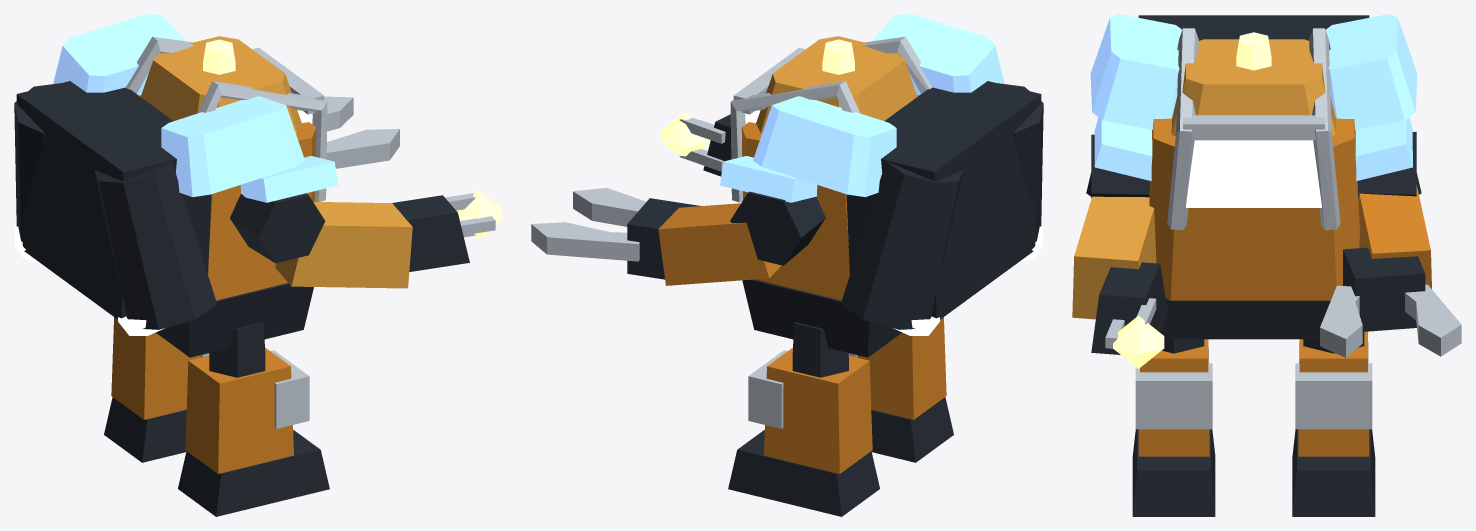
Rendered from pioneer.glb.
The picture shows the model from 3 angles, left to right: view 1: azimuth 30°, elevation 25°; view 2: azimuth 150°, elevation 25°; view 3: azimuth 270°, elevation 25°; orthographic projection. The views are drawn at different scales.
Parts seen in each view (by area): view 1: Surf_dark, Surf_TEAM, Surf_suit_hi, RightLeg_Surf_suit, RightLeg_Surf_dark, Surf_light, LeftLeg_Surf_suit, Surf_suit, LeftLeg_Surf_dark, Surf_weld, RightLeg_Surf_light, Surf_visor; view 2: Surf_dark, Surf_TEAM, Surf_suit, Surf_light, LeftLeg_Surf_suit, LeftLeg_Surf_dark, Surf_suit_hi, RightLeg_Surf_suit, RightLeg_Surf_dark, Surf_weld, LeftLeg_Surf_light, Surf_visor; view 3: Surf_suit, Surf_TEAM, Surf_dark, Surf_suit_hi, Surf_light, Surf_visor, RightLeg_Surf_dark, LeftLeg_Surf_dark, LeftLeg_Surf_light, RightLeg_Surf_light, LeftLeg_Surf_suit, RightLeg_Surf_suit (+1 smaller).
Part boxes in pixels (x1,y1,x2,y2): Surf_dark: [14, 81, 469, 357]; Surf_TEAM: [53, 14, 337, 202]; Surf_suit_hi: [140, 36, 412, 288]; RightLeg_Surf_suit: [185, 347, 293, 473]; RightLeg_Surf_dark: [178, 322, 329, 516]; Surf_light: [126, 36, 495, 237]; LeftLeg_Surf_suit: [111, 317, 200, 419]; Surf_suit: [139, 95, 316, 300]; LeftLeg_Surf_dark: [104, 397, 186, 462]; Surf_weld: [203, 39, 502, 238]; RightLeg_Surf_light: [270, 350, 309, 428]; Surf_visor: [15, 110, 312, 335]; Surf_dark: [627, 81, 1043, 357]; Surf_TEAM: [720, 14, 1004, 202]; Surf_suit: [658, 95, 918, 300]; Surf_light: [531, 36, 932, 261]; LeftLeg_Surf_suit: [764, 347, 872, 473]; LeftLeg_Surf_dark: [728, 322, 879, 516]; Surf_suit_hi: [756, 36, 917, 132]; RightLeg_Surf_suit: [857, 317, 946, 419]; RightLeg_Surf_dark: [871, 397, 953, 462]; Surf_weld: [662, 39, 854, 160]; LeftLeg_Surf_light: [748, 350, 787, 428]; Surf_visor: [745, 110, 1042, 335]; Surf_suit: [1149, 118, 1431, 300]; Surf_TEAM: [1090, 14, 1417, 180]; Surf_dark: [1086, 15, 1425, 354]; Surf_suit_hi: [1072, 39, 1336, 319]; Surf_light: [1105, 28, 1461, 364]; Surf_visor: [1186, 140, 1321, 207]; RightLeg_Surf_dark: [1132, 339, 1215, 516]; LeftLeg_Surf_dark: [1292, 332, 1375, 516]; LeftLeg_Surf_light: [1295, 363, 1372, 429]; RightLeg_Surf_light: [1135, 363, 1212, 429]; LeftLeg_Surf_suit: [1298, 331, 1369, 456]; RightLeg_Surf_suit: [1138, 339, 1209, 456].
Bounding box in the file's own units: 1.65 × 1.67 × 1.32.
